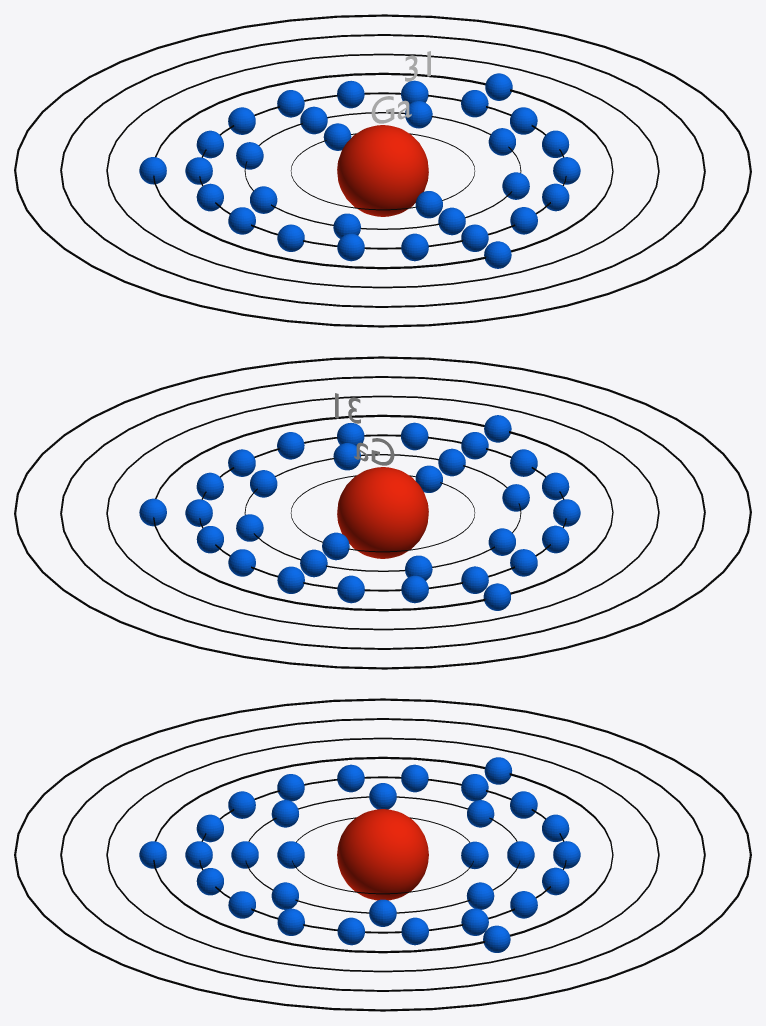
3 views of the same model, one above another, from view 1: azimuth 30°, elevation 25°; view 2: azimuth 150°, elevation 25°; view 3: azimuth 270°, elevation 25° (orthographic).
Visible parts, largest first — view 1: Ga3, Proton, Ga2, n7, n6, n5, n4, Ga4, Ga1, n3, n2; view 2: Ga3, Proton, Ga2, n7, n6, n5, n4, Ga4, Ga1, n3, n2; view 3: Ga3, Proton, Ga2, n7, n6, n5, n4, Ga4, Ga1, n3, n2, n1.
Part boxes in pixels (bbox=[...]): Ga3: bbox=[185, 80, 580, 261]; Proton: bbox=[337, 125, 428, 216]; Ga2: bbox=[236, 101, 529, 238]; n7: bbox=[14, 14, 751, 327]; n6: bbox=[60, 34, 705, 307]; n5: bbox=[106, 53, 659, 288]; n4: bbox=[153, 72, 613, 269]; Ga4: bbox=[139, 73, 512, 268]; Ga1: bbox=[323, 123, 442, 218]; n3: bbox=[199, 92, 566, 249]; n2: bbox=[244, 112, 521, 229]; Ga3: bbox=[185, 422, 580, 603]; Proton: bbox=[337, 467, 428, 558]; Ga2: bbox=[236, 443, 529, 580]; n7: bbox=[14, 356, 751, 669]; n6: bbox=[60, 376, 705, 649]; n5: bbox=[106, 395, 659, 630]; n4: bbox=[153, 414, 613, 611]; Ga4: bbox=[139, 415, 511, 610]; Ga1: bbox=[322, 465, 442, 560]; n3: bbox=[199, 434, 566, 591]; n2: bbox=[244, 454, 521, 571]; Ga3: bbox=[185, 764, 580, 945]; Proton: bbox=[337, 809, 428, 900]; Ga2: bbox=[231, 783, 534, 926]; n7: bbox=[14, 698, 751, 1011]; n6: bbox=[60, 718, 705, 991]; n5: bbox=[106, 737, 659, 972]; n4: bbox=[153, 756, 613, 953]; Ga4: bbox=[139, 757, 512, 952]; Ga1: bbox=[277, 841, 488, 869]; n3: bbox=[199, 776, 566, 933]; n2: bbox=[245, 796, 520, 913]; n1: bbox=[292, 817, 473, 894].
Bounding box in the file's own units: 802 × 180 × 802.
